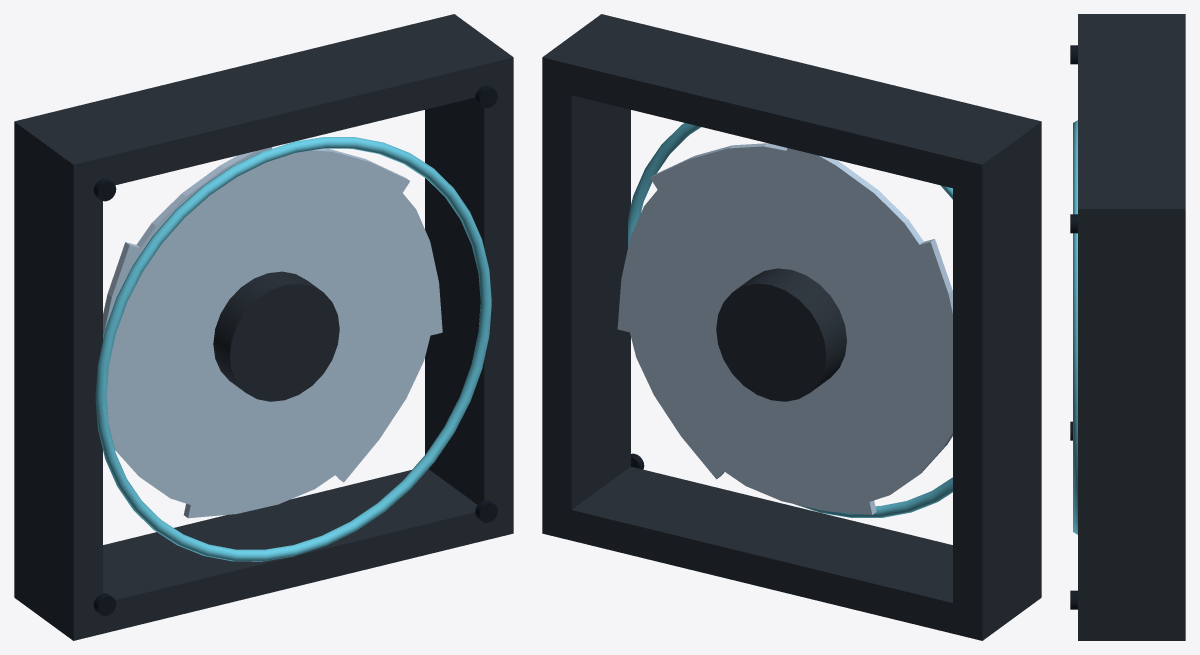
Rendered from retail-lian-li-uni-fan-tl-120-wireless-black.glb.
3 renders of one model, left to right at view 1: azimuth 30°, elevation 25°; view 2: azimuth 150°, elevation 25°; view 3: azimuth 270°, elevation 25°, orthographic. The views are drawn at different scales.
Parts seen in each view (by area): view 1: Frame edge (×4), Blade (×7), Intake rim, Motor hub; view 2: Frame edge (×4), Blade (×7), Motor hub, Intake rim; view 3: Frame edge (×3), Intake rim.
Part boxes in pixels (x1,y1,x2,y2): Frame edge (×4): (14, 14, 513, 640); Blade (×7): (103, 147, 442, 518); Intake rim: (95, 137, 491, 561); Motor hub: (213, 271, 339, 401); Frame edge (×4): (542, 14, 1041, 640); Blade (×7): (617, 143, 952, 514); Motor hub: (716, 268, 846, 401); Intake rim: (628, 123, 952, 517); Frame edge (×3): (1078, 14, 1185, 640); Intake rim: (1073, 120, 1077, 534).
Size of the model in its own units: 0.12 by 0.124 by 0.03.
